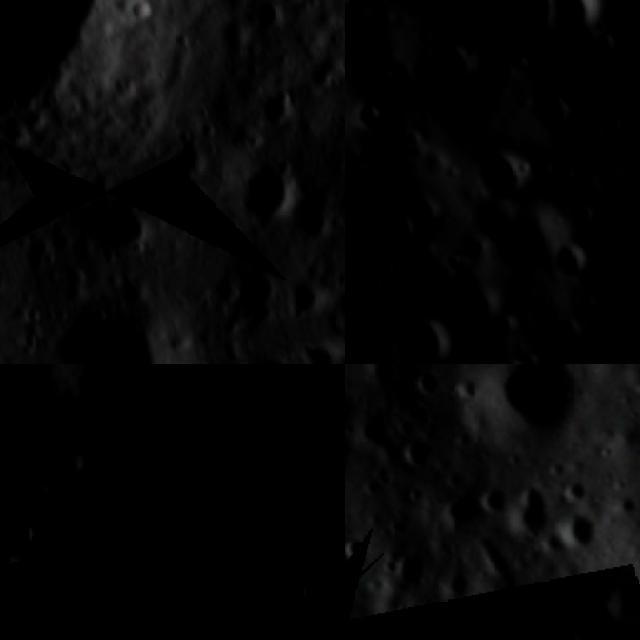crater: (0, 0, 232, 243), (367, 0, 618, 81), (226, 387, 345, 554), (448, 364, 622, 477), (41, 265, 187, 364), (562, 204, 640, 364), (477, 472, 583, 576), (418, 468, 520, 563), (182, 542, 279, 638), (453, 128, 546, 220), (228, 145, 314, 238), (400, 20, 488, 108), (76, 183, 164, 270), (372, 290, 472, 364), (220, 254, 296, 337), (514, 68, 592, 145), (275, 170, 345, 251), (363, 190, 434, 260), (528, 0, 617, 54), (279, 264, 345, 330), (0, 364, 76, 420), (389, 418, 449, 478), (588, 571, 640, 640), (345, 82, 399, 148), (455, 596, 529, 640), (214, 364, 291, 405), (399, 364, 458, 409), (345, 526, 388, 580), (22, 586, 72, 632), (557, 604, 617, 640), (0, 542, 24, 609), (4, 520, 42, 557)
